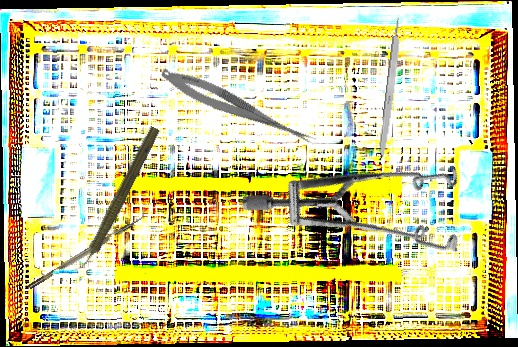Chopper: (24, 207, 150, 290)
Handpiece: (70, 122, 163, 280)
Micro Scissor: (157, 63, 321, 150)
Scalpel Handle: (377, 15, 405, 163)
Speculum: (238, 77, 496, 324)
